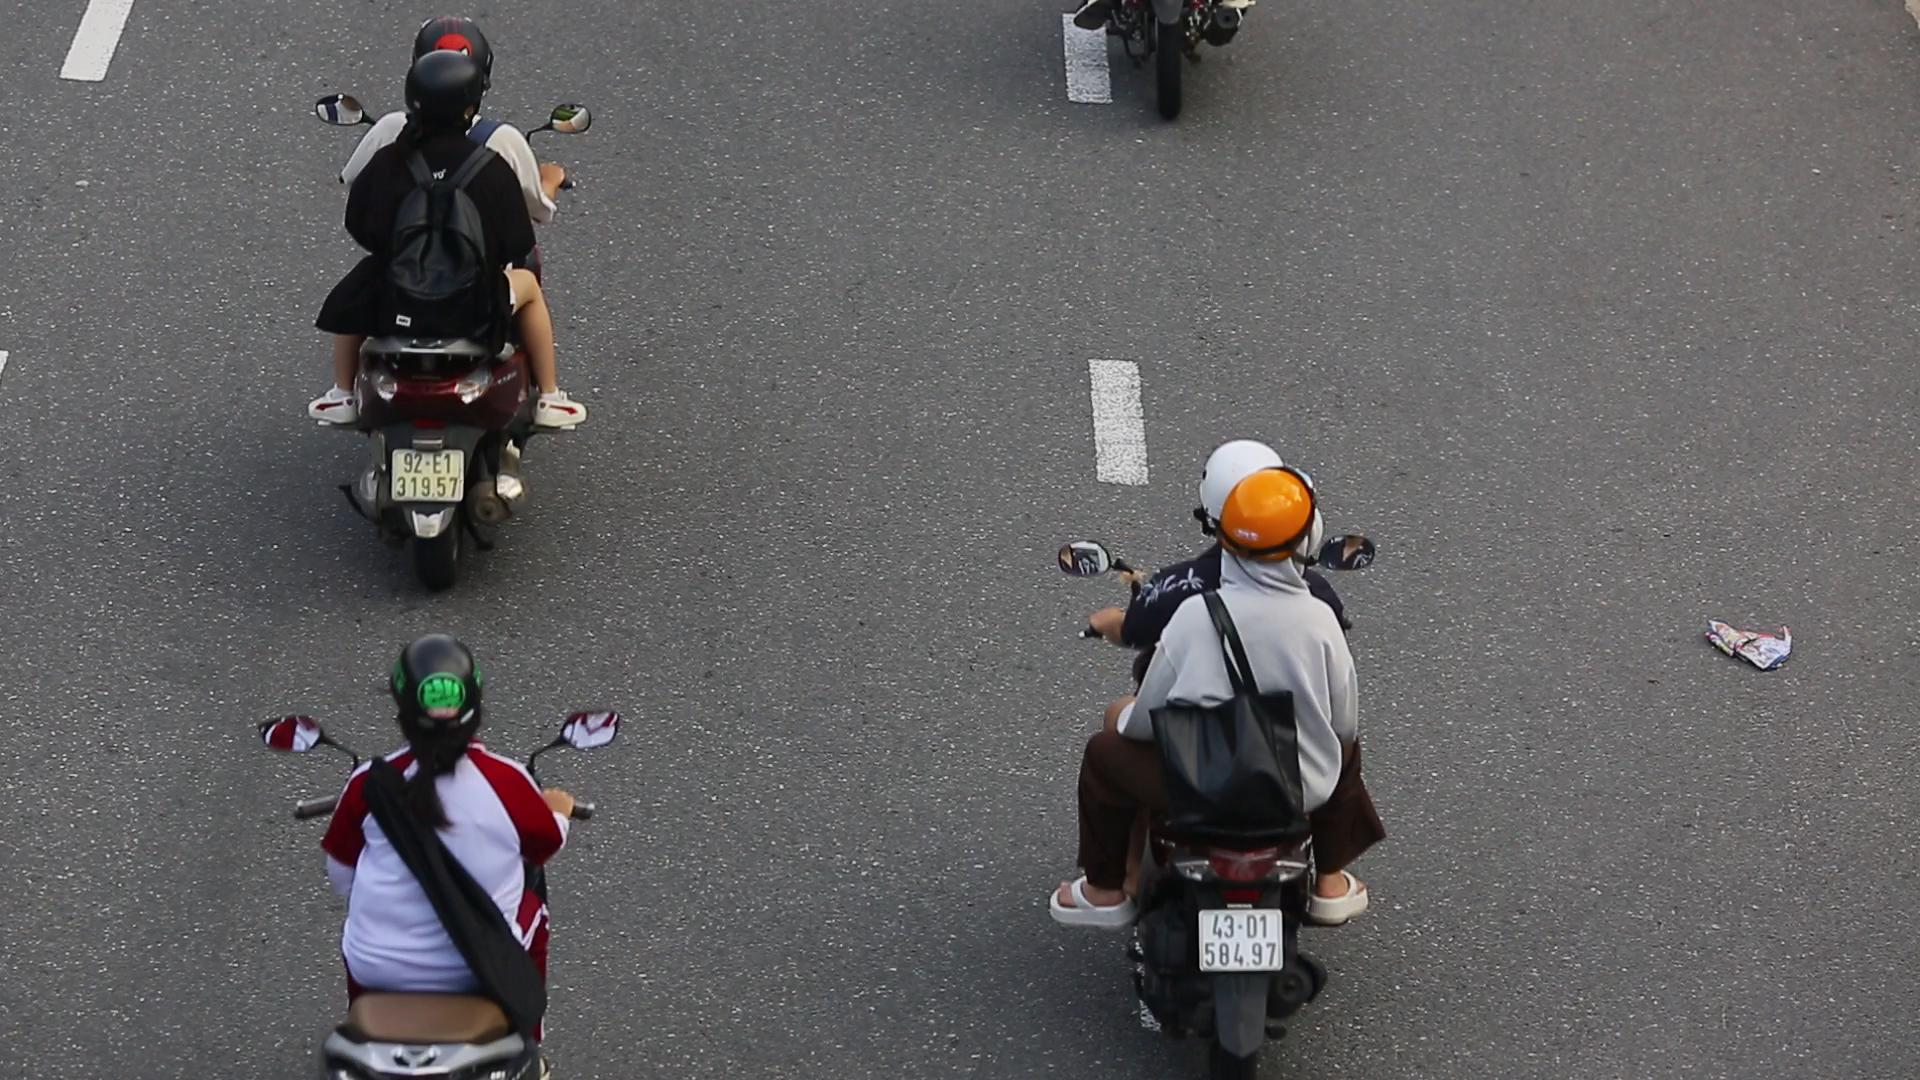motobike: (1043, 427, 1398, 1080), (284, 0, 603, 592)
